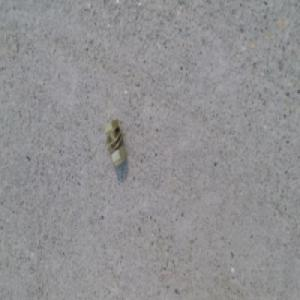BoltNutSet: (103, 121, 126, 167)
